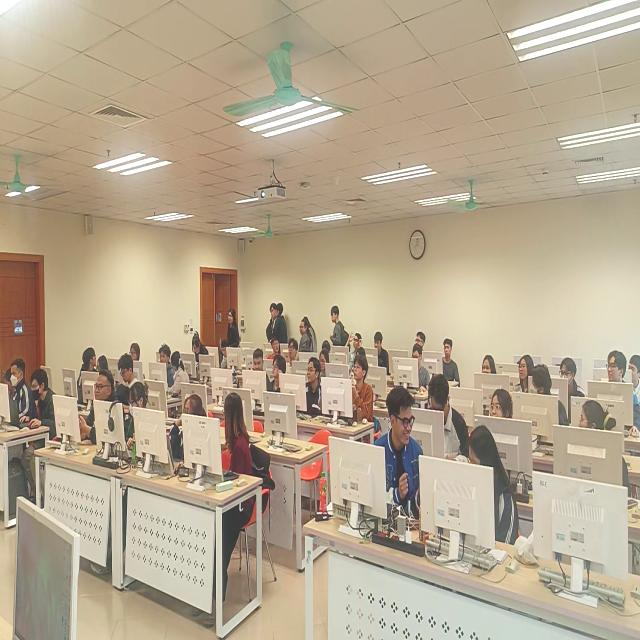raise_head: (78, 370, 120, 449), (604, 348, 640, 440), (350, 353, 376, 425), (303, 353, 326, 420), (487, 383, 517, 423), (440, 336, 463, 383), (268, 352, 289, 401), (514, 351, 536, 393), (374, 328, 392, 374), (626, 352, 640, 399), (347, 329, 362, 371), (481, 354, 498, 378), (287, 338, 300, 367), (130, 339, 143, 364), (414, 330, 428, 350)
stand: (330, 301, 349, 348), (274, 295, 290, 345), (227, 305, 243, 349), (300, 314, 315, 351), (265, 300, 277, 343)
using_computer: (426, 374, 470, 464), (167, 395, 209, 472), (20, 367, 59, 442), (121, 380, 149, 468), (1, 356, 32, 427), (116, 350, 140, 403), (559, 357, 585, 398), (411, 344, 433, 390), (192, 330, 212, 366), (253, 348, 268, 395), (220, 338, 234, 371), (321, 346, 332, 381), (98, 354, 112, 374)
